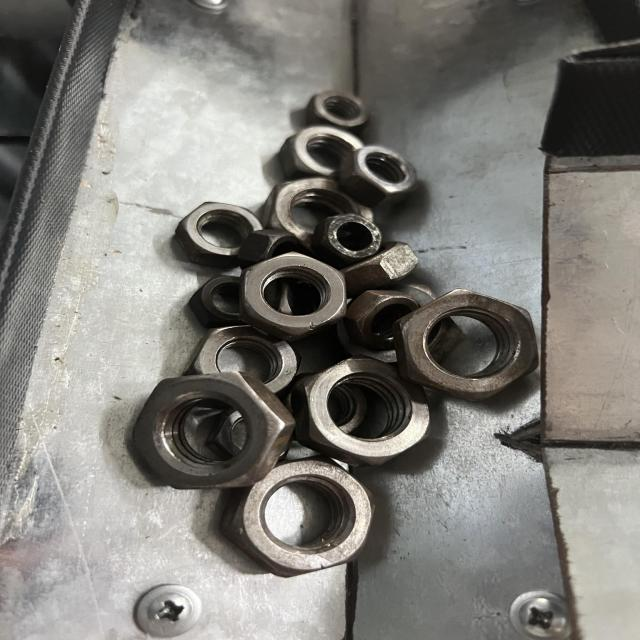nut: (132, 372, 292, 483), (397, 289, 539, 397), (303, 356, 439, 464), (240, 252, 342, 334)
